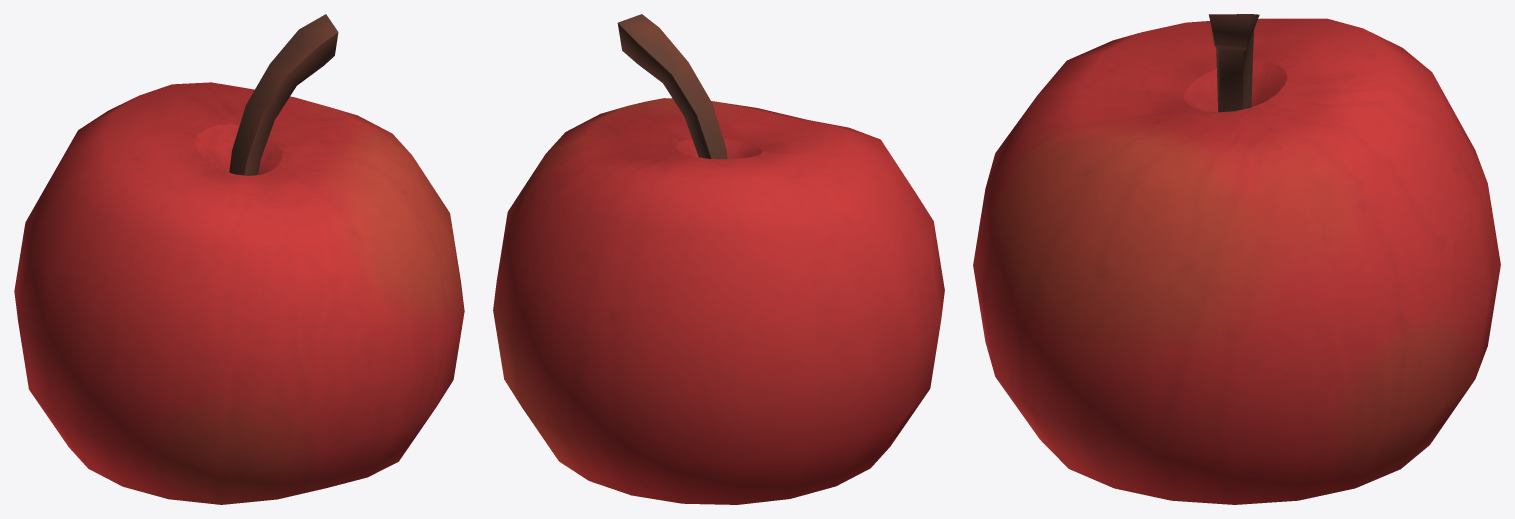
Rendered from Apple.fbx.
3 renders of one model, left to right at view 1: azimuth 30°, elevation 25°; view 2: azimuth 150°, elevation 25°; view 3: azimuth 270°, elevation 25°, orthographic. The views are drawn at different scales.
Visible parts, largest first — view 1: Apple; view 2: Apple; view 3: Apple.
Boxes of the visible parts, <box> form: Apple: <box>14,14,464,504</box>; Apple: <box>493,14,944,504</box>; Apple: <box>973,14,1500,504</box>.
Size of the model in its own units: 1.75 by 1.78 by 1.74.
